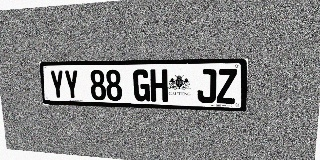8: (105, 70, 122, 101), (90, 70, 106, 100)
G: (133, 69, 150, 102)
H: (150, 69, 168, 102)
J: (197, 69, 217, 103)
Y: (64, 70, 80, 100), (49, 70, 65, 99)
Z: (217, 69, 237, 104)
